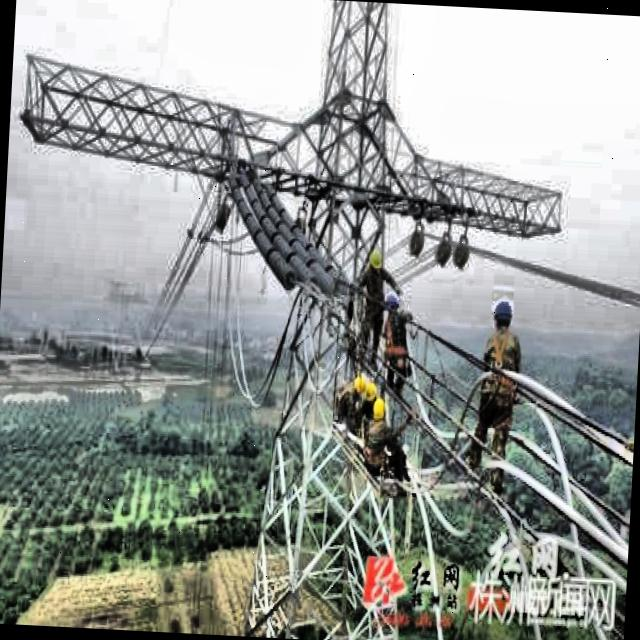helmet: (491, 293, 516, 335), (370, 395, 392, 425), (366, 248, 386, 276), (352, 368, 367, 398), (364, 379, 380, 405)
